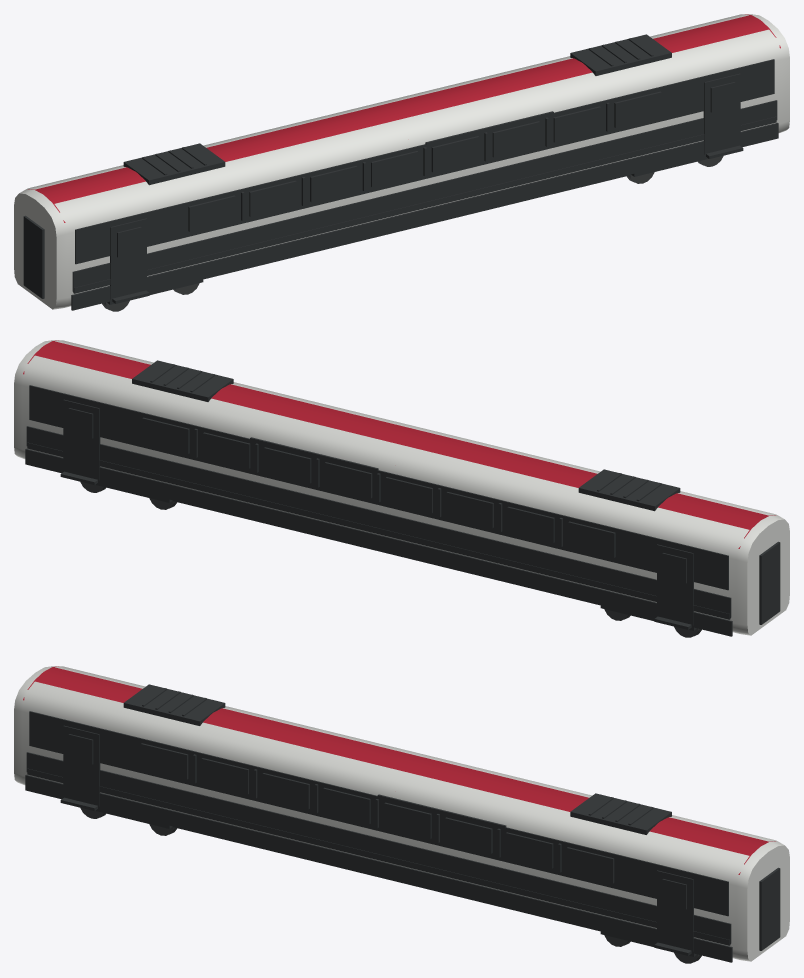
The model's file is railjet-nextgen-first-b.glb.
3 renders of one model, top to bottom at view 1: azimuth 30°, elevation 25°; view 2: azimuth 150°, elevation 25°; view 3: azimuth 330°, elevation 25°, orthographic.
Visible parts, largest first — view 1: first_b_lofted_body, first_b_black_window_ribbon_-1, first_b_red_roof, first_b_silver_flank_-1, first_b_dark_skirt_-1, first_b_red_sill_-1, first_b_hvac_0, first_b_hvac_1, first_b_wide_door_-1_1, first_b_wide_door_-1_0, gangway_1.001, first_b_window_-1_4 (+10 smaller); view 2: first_b_lofted_body, first_b_black_window_ribbon_1, first_b_red_roof, first_b_silver_flank_1, first_b_dark_skirt_1, first_b_red_sill_1, first_b_hvac_0, first_b_hvac_1, first_b_wide_door_1_1, first_b_wide_door_1_0, gangway_1.001, first_b_window_1_4 (+12 smaller); view 3: first_b_lofted_body, first_b_black_window_ribbon_-1, first_b_red_roof, first_b_silver_flank_-1, first_b_dark_skirt_-1, first_b_red_sill_-1, first_b_hvac_0, first_b_hvac_1, first_b_wide_door_-1_0, first_b_wide_door_-1_1, gangway_0.001, first_b_window_-1_0 (+10 smaller).
Boxes of the visible parts, box(x1,y1,x2,y2) form: first_b_lofted_body: box(14, 14, 789, 309); first_b_black_window_ribbon_-1: box(75, 59, 774, 264); first_b_red_roof: box(28, 14, 780, 222); first_b_silver_flank_-1: box(72, 100, 777, 291); first_b_dark_skirt_-1: box(71, 122, 778, 310); first_b_red_sill_-1: box(73, 116, 776, 293); first_b_hvac_0: box(123, 143, 225, 185); first_b_hvac_1: box(570, 34, 671, 75); first_b_wide_door_-1_1: box(703, 73, 740, 154); first_b_wide_door_-1_0: box(110, 218, 146, 299); gangway_1.001: box(23, 215, 44, 298); first_b_window_-1_4: box(431, 136, 479, 172); first_b_lofted_body: box(14, 340, 789, 635); first_b_black_window_ribbon_1: box(29, 385, 728, 590); first_b_red_roof: box(23, 340, 775, 548); first_b_silver_flank_1: box(26, 426, 731, 617); first_b_dark_skirt_1: box(25, 448, 732, 636); first_b_red_sill_1: box(27, 442, 730, 619); first_b_hvac_0: box(578, 469, 680, 511); first_b_hvac_1: box(132, 360, 233, 401); first_b_wide_door_1_1: box(63, 399, 100, 480); first_b_wide_door_1_0: box(657, 544, 693, 625); gangway_1.001: box(759, 541, 780, 624); first_b_window_1_4: box(324, 462, 372, 498); first_b_lofted_body: box(14, 666, 789, 961); first_b_black_window_ribbon_-1: box(29, 711, 728, 916); first_b_red_roof: box(23, 666, 775, 874); first_b_silver_flank_-1: box(26, 752, 731, 943); first_b_dark_skirt_-1: box(25, 774, 732, 962); first_b_red_sill_-1: box(27, 768, 730, 945); first_b_hvac_0: box(123, 684, 225, 725); first_b_hvac_1: box(570, 793, 671, 834); first_b_wide_door_-1_0: box(63, 725, 100, 806); first_b_wide_door_-1_1: box(657, 870, 693, 951); gangway_0.001: box(759, 867, 780, 950); first_b_window_-1_0: box(141, 743, 188, 779).
Size of the model in its own units: 26.6 by 4.32 by 3.42.
